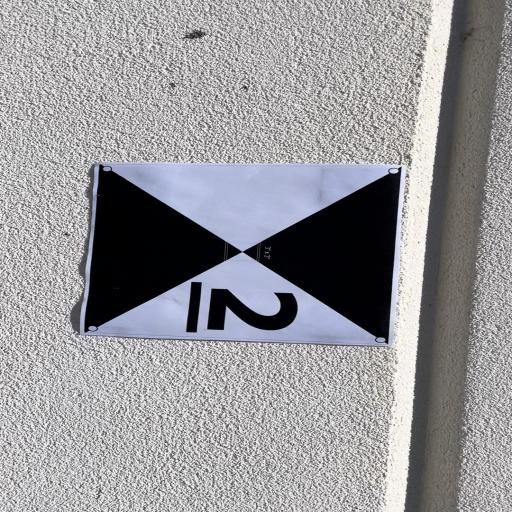target2: (78, 163, 407, 347)
